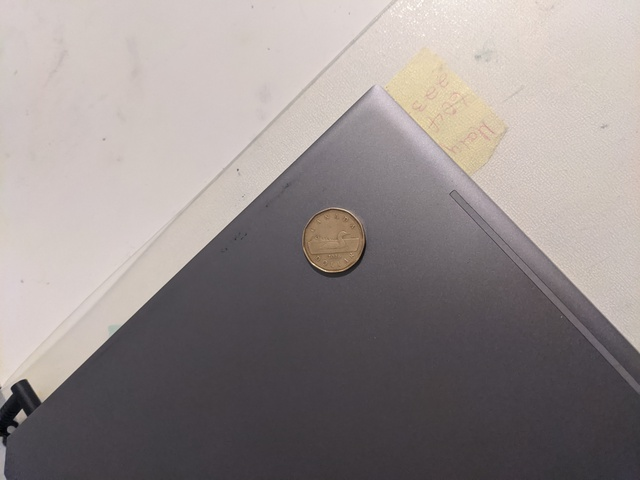loonie: (294, 198, 375, 279)
